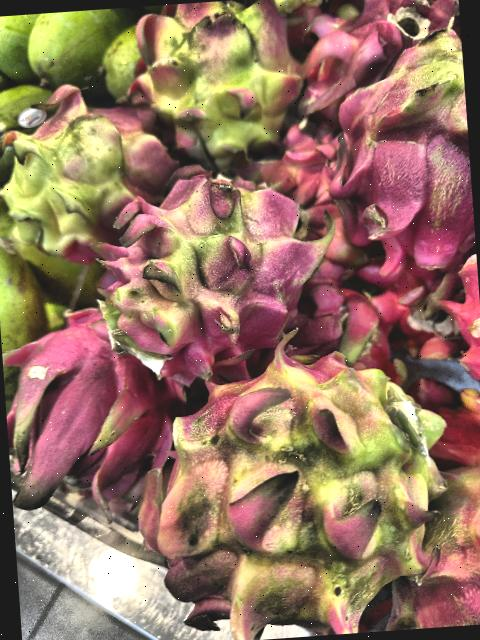buah-naga-belum-matang: (130, 344, 467, 640), (77, 166, 358, 371), (338, 21, 476, 263), (121, 0, 308, 162), (0, 80, 178, 250), (429, 457, 480, 626)
buah-naga-matang: (0, 293, 180, 520), (304, 0, 464, 104)
